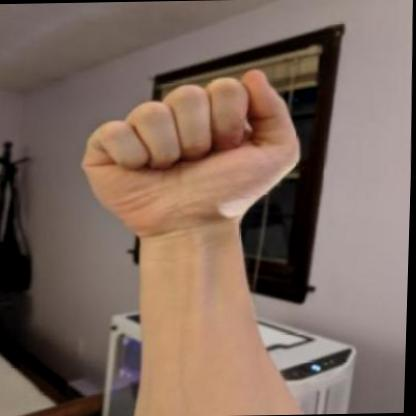A: (68, 59, 312, 252)
